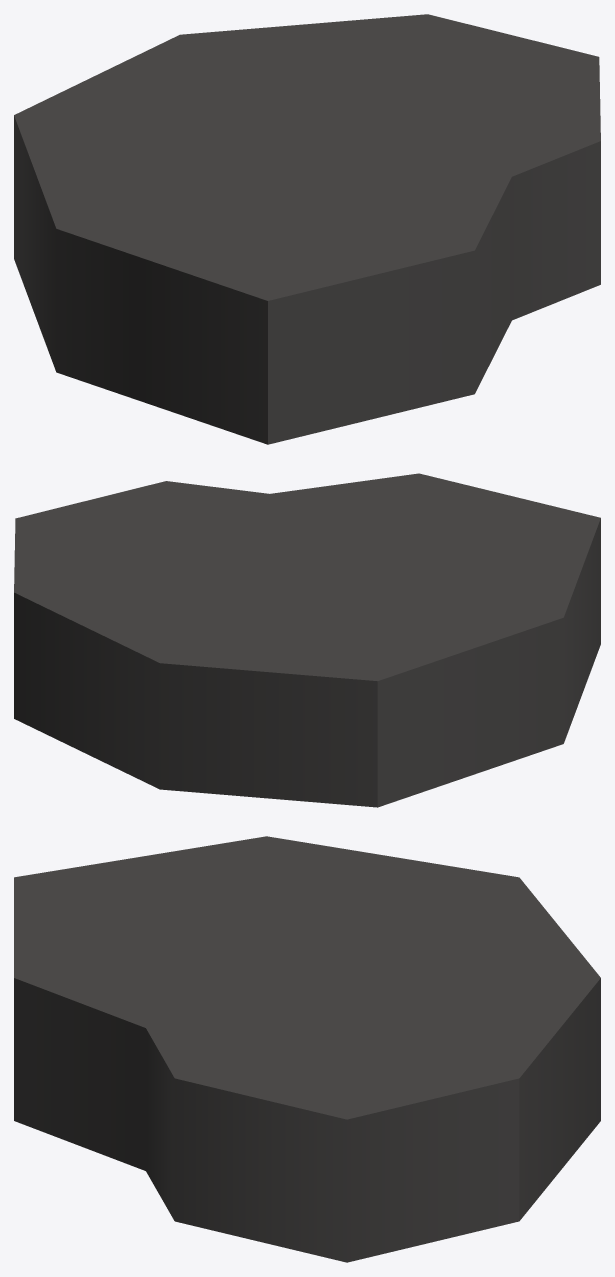
3 renders of one model, top to bottom at view 1: azimuth 30°, elevation 25°; view 2: azimuth 150°, elevation 25°; view 3: azimuth 270°, elevation 25°, orthographic. The views are drawn at different scales.
Parts seen in each view (by area): view 1: Box001; view 2: Box001; view 3: Box001.
Boxes of the visible parts, bbox=[...] form: Box001: bbox=[14, 14, 600, 444]; Box001: bbox=[14, 473, 600, 807]; Box001: bbox=[14, 836, 600, 1262].
Bounding box in the file's own units: 15.02 × 3.54 × 13.15.
